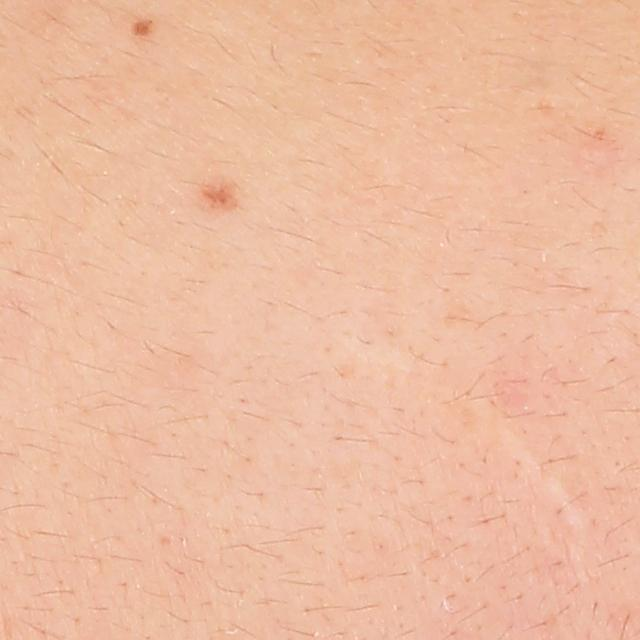nevus: (198, 170, 240, 213), (132, 10, 159, 38)
